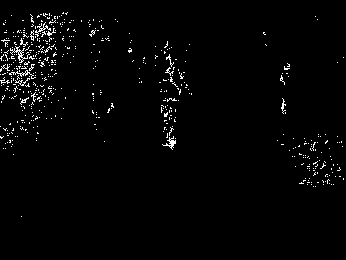person: (159, 72, 182, 149)
